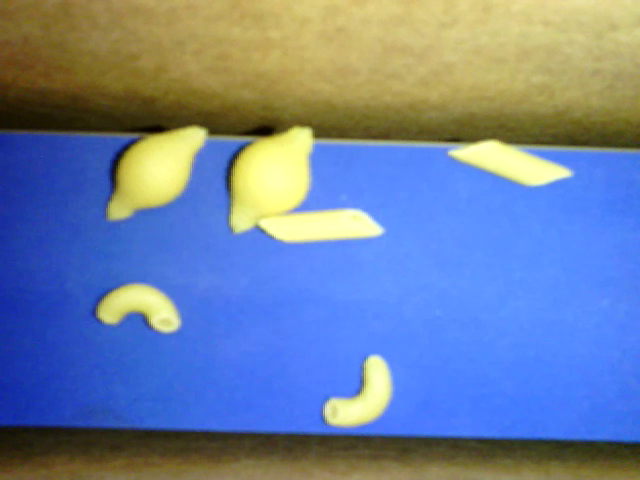elbow: (322, 354, 393, 428), (96, 282, 180, 331)
penne: (449, 134, 572, 189), (257, 207, 386, 244)
shell: (106, 123, 208, 221), (228, 126, 314, 233)
